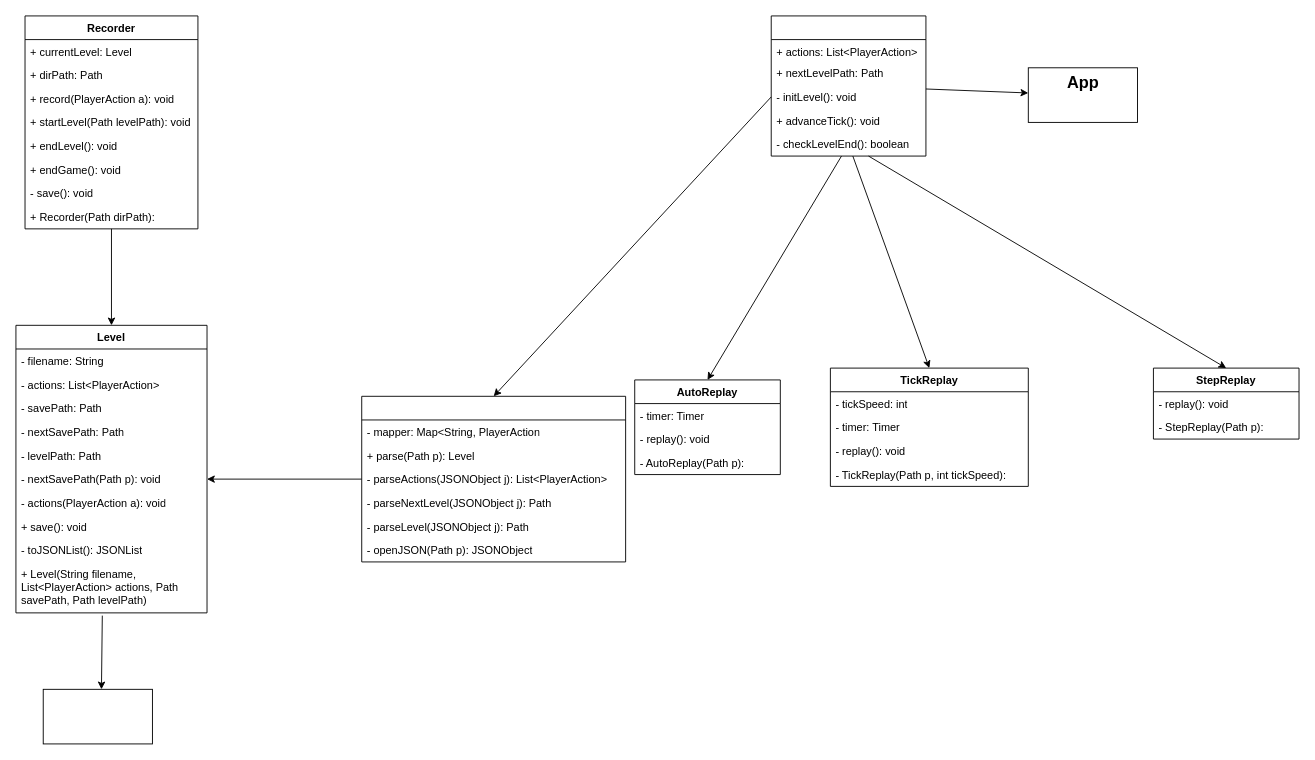
The diagram is 1315 pixels wide and 760 high, and some of its shapes have lost their labels. Here are the shapes that lost their labels. From the top down, the box of each, then its label:
(770, 15, 926, 156): Replay
(361, 395, 626, 562): Parser
(42, 688, 152, 744): Persistency
